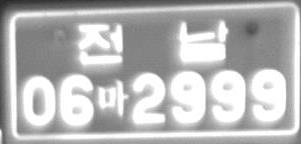0: (21, 74, 56, 126)
2: (132, 71, 166, 124)
6: (59, 73, 94, 127)
9: (169, 69, 207, 125), (250, 68, 287, 123), (211, 69, 246, 123)
마: (97, 79, 129, 118)
전남_D: (77, 19, 229, 63)
